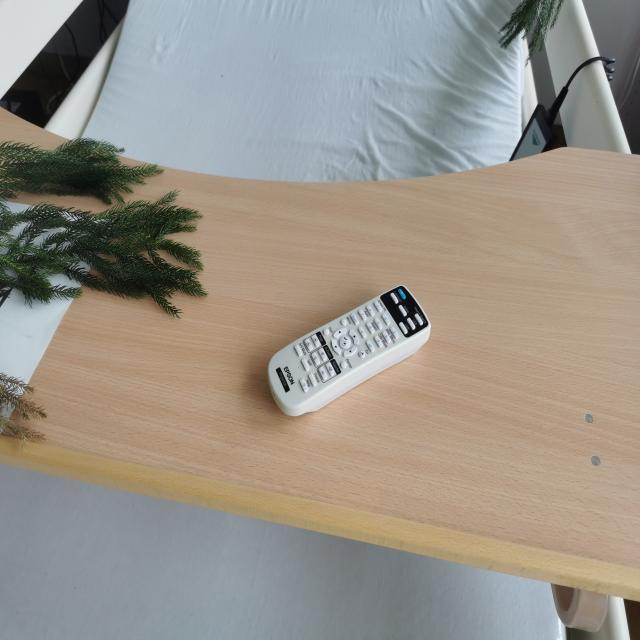remote: (262, 279, 432, 420)
